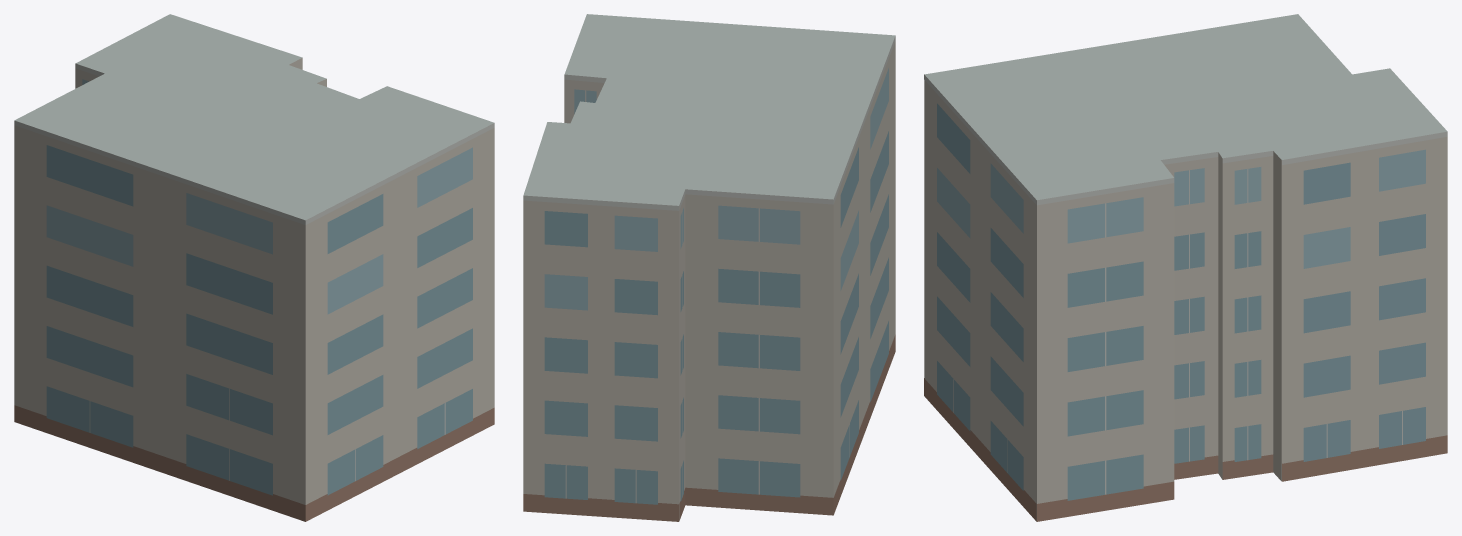
The model's file is survey-upis-32837507.glb.
The picture shows the model from 3 angles, left to right: view 1: azimuth 30°, elevation 25°; view 2: azimuth 150°, elevation 25°; view 3: azimuth 270°, elevation 25°; orthographic projection. The views are drawn at different scales.
Visible parts, largest first — view 1: survey-upis-32837507.tmp; view 2: survey-upis-32837507.tmp; view 3: survey-upis-32837507.tmp.
Part boxes in pixels (x1,y1,x2,y2): survey-upis-32837507.tmp: [14, 14, 494, 521]; survey-upis-32837507.tmp: [523, 14, 895, 521]; survey-upis-32837507.tmp: [924, 14, 1447, 521].
Size of the model in its own units: 19.01 by 15.3 by 22.58.
